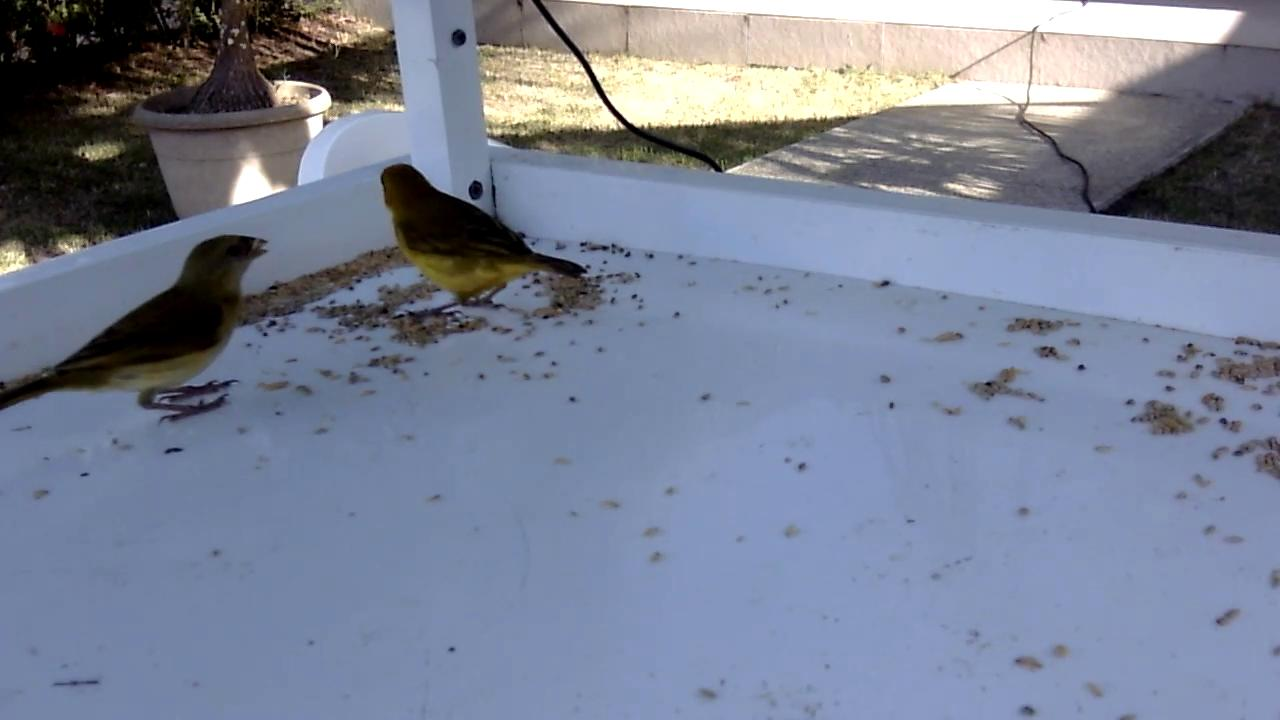canario_do_amazonas: (1, 233, 273, 430), (378, 162, 591, 320)
